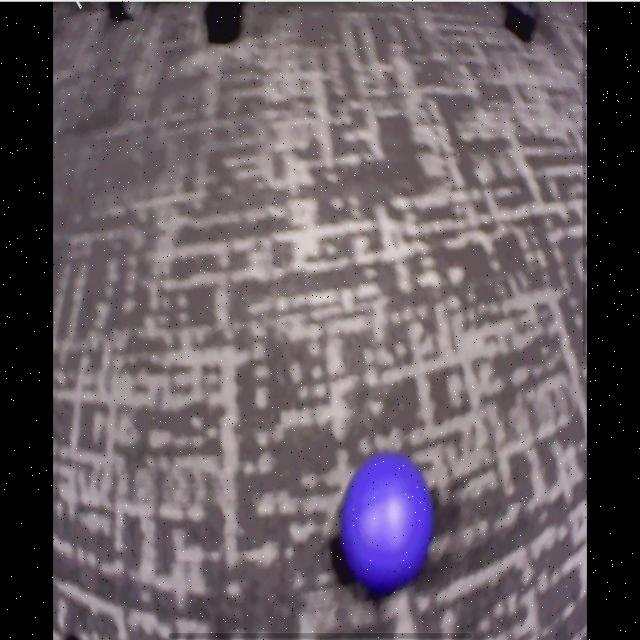ball: (342, 455, 433, 587)
